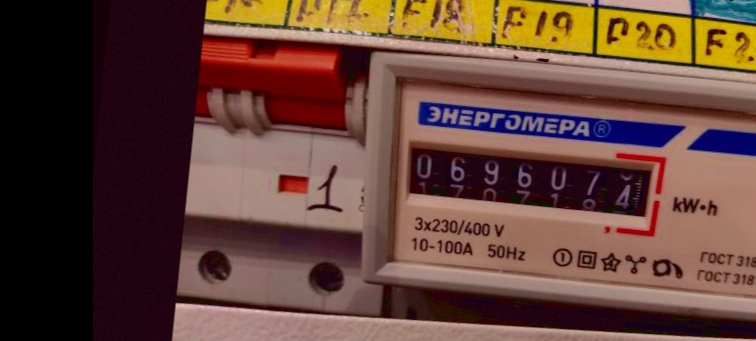0: (413, 152, 437, 182), (550, 163, 571, 194), (449, 156, 469, 183)
4: (614, 183, 634, 212)
6: (515, 159, 536, 191)
7: (582, 167, 603, 198)
9: (482, 158, 503, 188)
screen: (389, 127, 670, 238)
